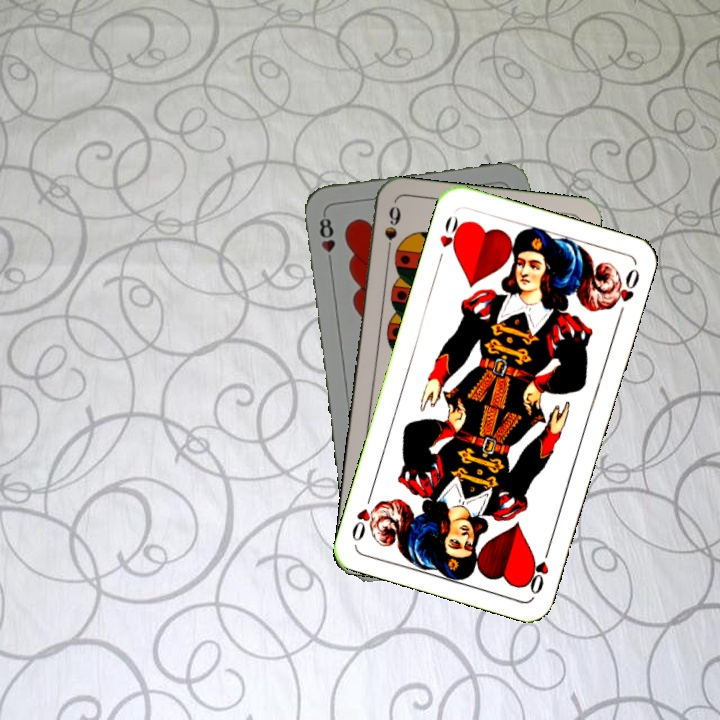H8: (315, 209, 338, 269)
HO: (433, 212, 466, 266), (523, 540, 554, 597)
S9: (380, 202, 403, 260)
